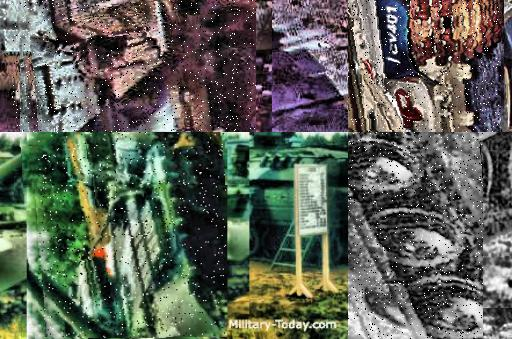tanks: (40, 133, 227, 339), (23, 1, 257, 133), (134, 133, 349, 264), (349, 133, 484, 339), (349, 1, 502, 133)
